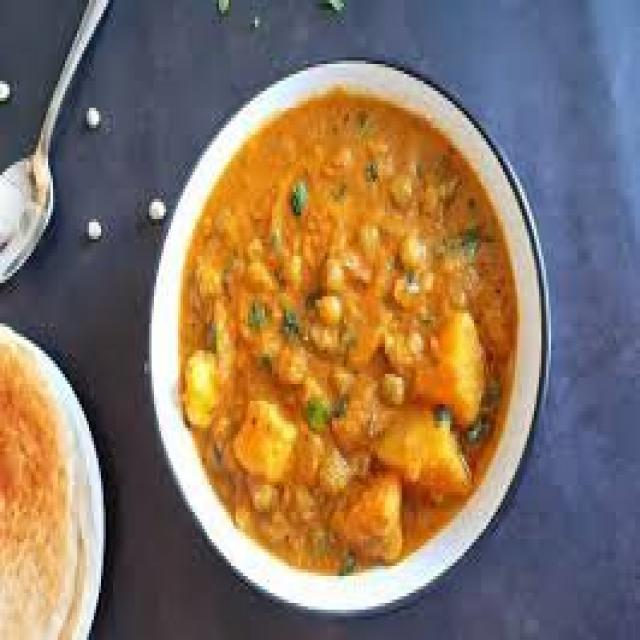Aloo Matar: (176, 89, 518, 575)
